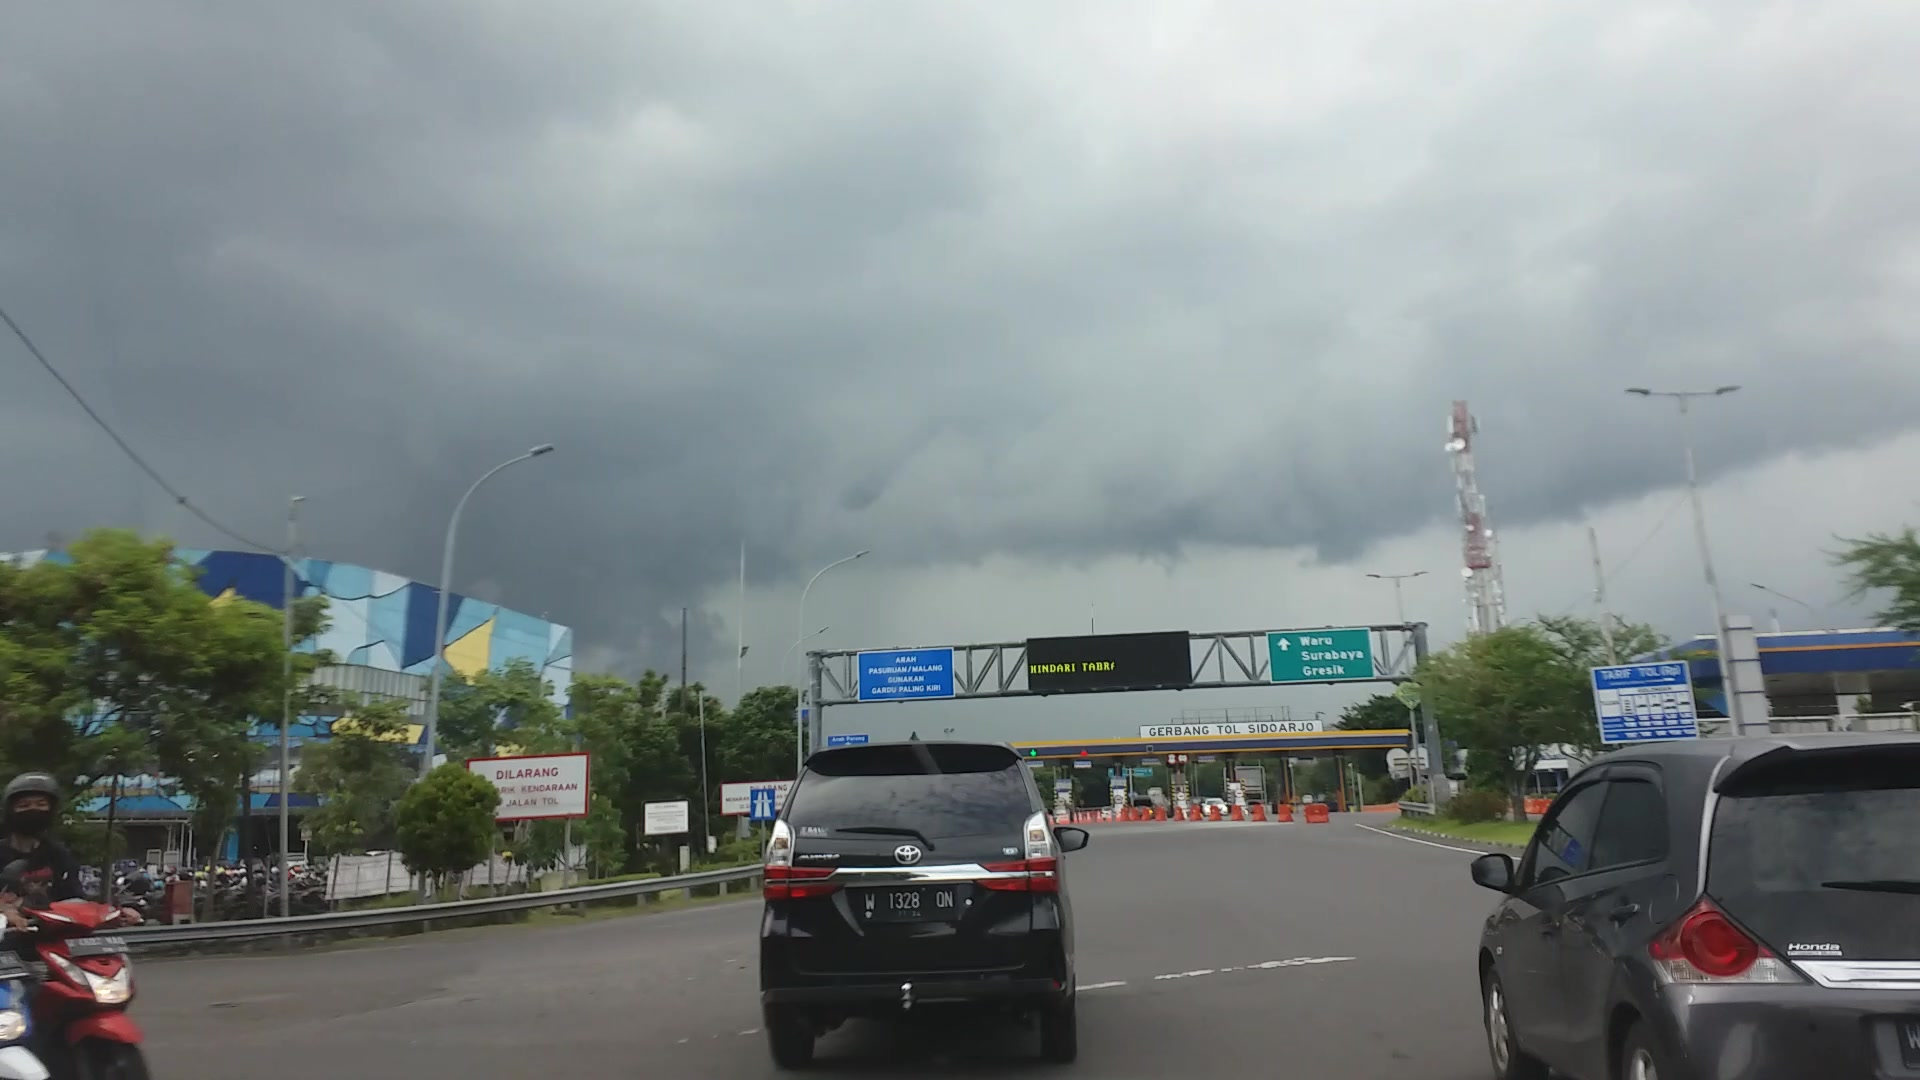plate_positive: (860, 886, 957, 922)
